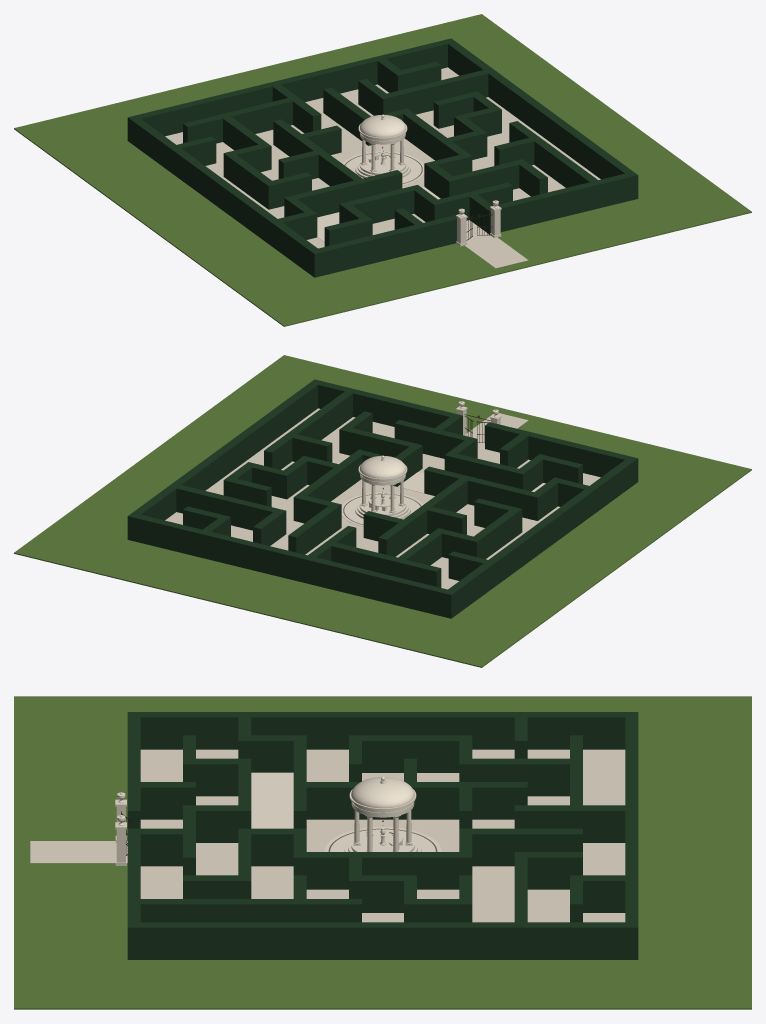
Rendered from labyrinthus.glb.
3 renders of one model, top to bottom at view 1: azimuth 30°, elevation 25°; view 2: azimuth 150°, elevation 25°; view 3: azimuth 270°, elevation 25°, orthographic. The views are drawn at different scales.
Visible parts, largest first — view 1: lawn, hedge_r0_0, gravel_paths, hedge_r18_0, hedge_r18_10, hedge_r4_12, hedge_r12_2, hedge_r2_2, hedge_r14_10, hedge_r14_4, hedge_r16_8, gravel_forecourt (+20 smaller); view 2: lawn, hedge_r0_0, gravel_paths, hedge_r18_0, hedge_r18_10, hedge_r12_2, hedge_r4_12, hedge_r2_2, hedge_r14_4, hedge_r16_8, hedge_r14_10, hedge_r8_14 (+22 smaller); view 3: lawn, gravel_paths, hedge_r0_0, gravel_forecourt, hedge_r18_10, hedge_r5_10, hedge_r13_10, hedge_r3_4, hedge_r15_4, hedge_r17_10, hedge_r18_0, hedge_r1_0 (+68 smaller).
Part boxes in pixels (<box>): lawn: <box>14,14,751,326</box>; hedge_r0_0: <box>127,38,455,144</box>; gravel_paths: <box>165,67,600,248</box>; hedge_r18_0: <box>310,214,456,277</box>; hedge_r18_10: <box>485,171,638,234</box>; hedge_r4_12: <box>378,68,496,114</box>; hedge_r12_2: <box>284,170,402,217</box>; hedge_r2_2: <box>183,96,300,143</box>; hedge_r14_10: <box>444,159,527,197</box>; hedge_r14_4: <box>339,185,421,223</box>; hedge_r16_8: <box>429,182,512,221</box>; gravel_forecourt: <box>464,235,528,268</box>; lawn: <box>14,355,751,667</box>; hedge_r0_0: <box>127,512,455,618</box>; gravel_paths: <box>165,408,600,589</box>; hedge_r18_0: <box>485,422,638,485</box>; hedge_r18_10: <box>310,379,462,435</box>; hedge_r12_2: <box>424,466,542,520</box>; hedge_r4_12: <box>168,483,286,537</box>; hedge_r2_2: <box>324,540,441,587</box>; hedge_r14_4: <box>444,452,527,490</box>; hedge_r16_8: <box>394,420,477,458</box>; hedge_r14_10: <box>339,426,422,471</box>; hedge_r8_14: <box>244,462,291,499</box>; lawn: <box>14,696,751,1009</box>; gravel_paths: <box>140,749,625,922</box>; hedge_r0_0: <box>625,712,638,959</box>; gravel_forecourt: <box>30,841,127,863</box>; hedge_r18_10: <box>127,828,140,959</box>; hedge_r5_10: <box>472,828,514,866</box>; hedge_r13_10: <box>251,828,293,866</box>; hedge_r3_4: <box>527,758,569,796</box>; hedge_r15_4: <box>196,758,238,796</box>; hedge_r17_10: <box>140,828,182,866</box>; hedge_r18_0: <box>127,712,140,828</box>; hedge_r1_0: <box>583,712,625,749</box>.
Size of the model in its own units: 45.4 by 5.22 by 45.4.
